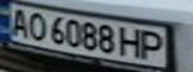0: (63, 17, 81, 48)
6: (45, 15, 66, 46)
8: (78, 20, 100, 52), (97, 22, 118, 55)
A: (3, 6, 33, 37)
H: (118, 25, 145, 58)
O: (24, 10, 48, 42)
P: (139, 28, 169, 61)
